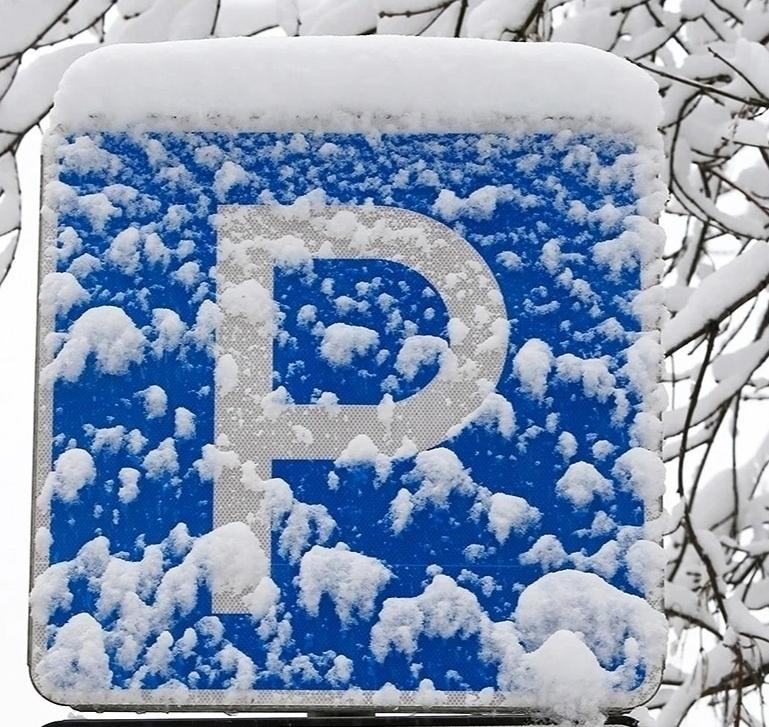obstructed_road_sign: (29, 36, 673, 723)
